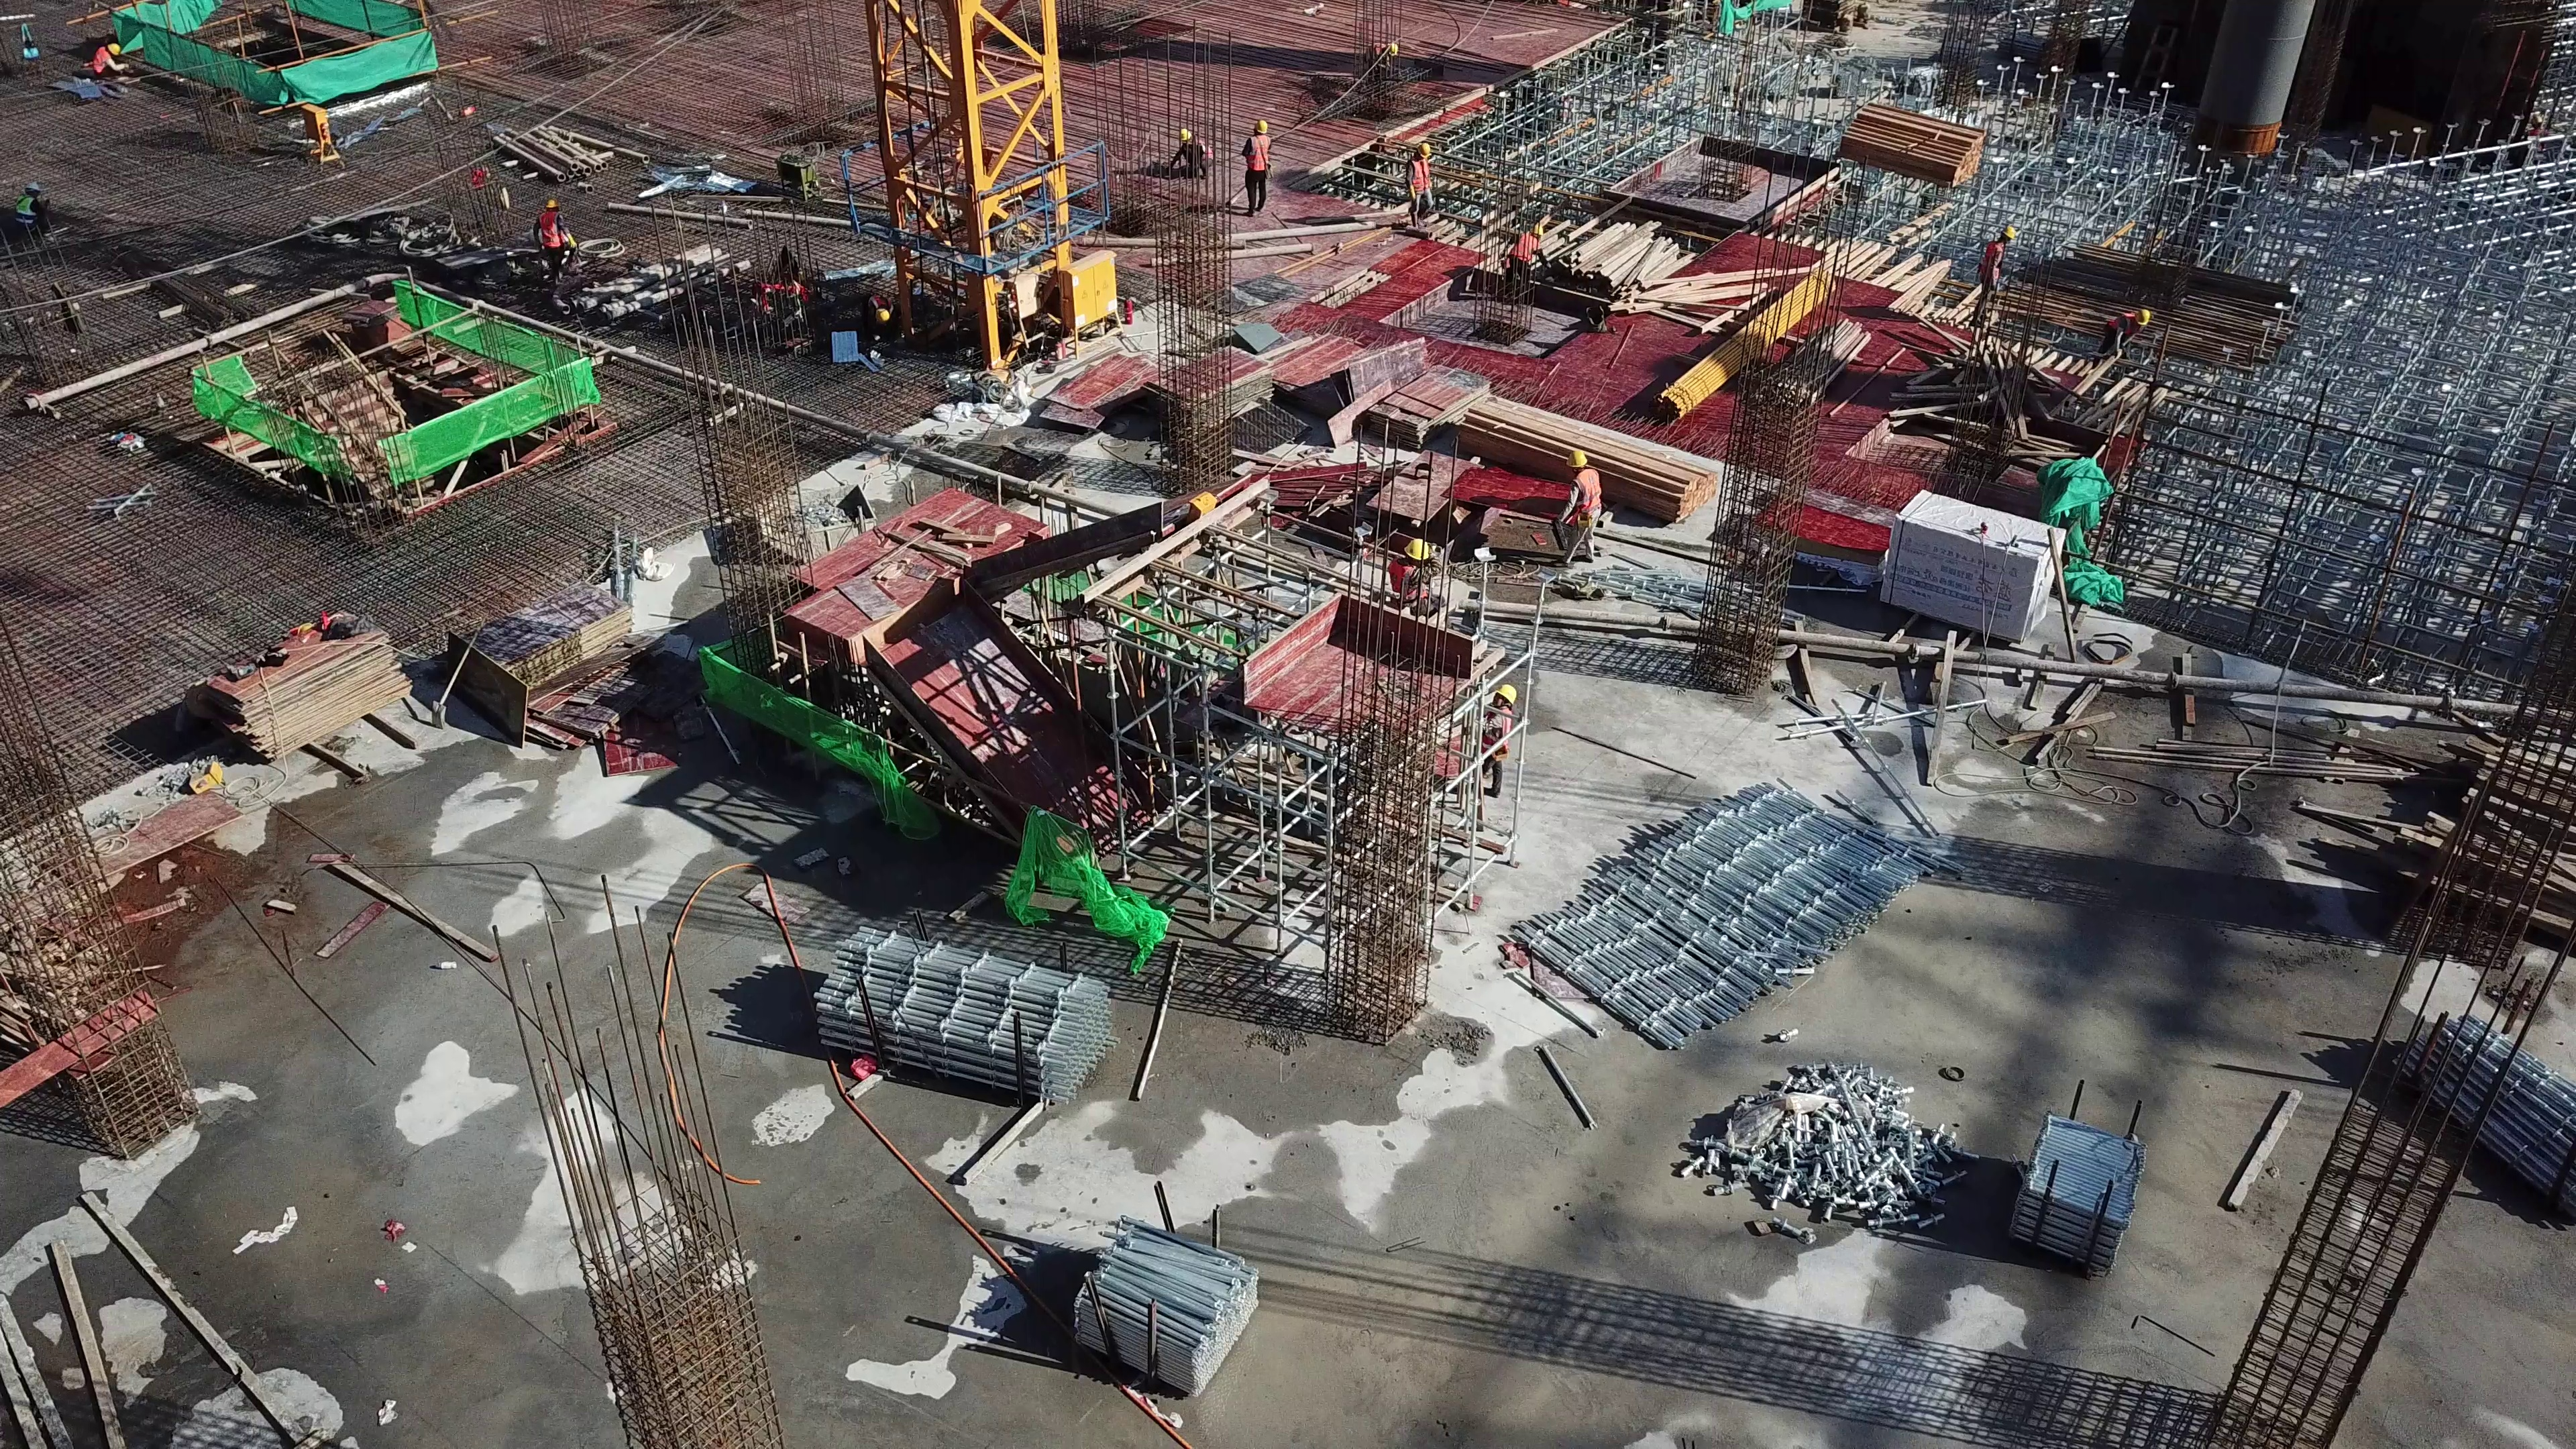board: (201, 608, 408, 765), (455, 578, 633, 739)
person: (1476, 680, 1519, 797), (522, 193, 569, 296), (1980, 217, 2018, 342), (1236, 115, 1283, 214), (1560, 450, 1601, 546), (1383, 520, 1435, 593), (1400, 135, 1435, 237), (2102, 310, 2158, 368)
scaffold: (1517, 780, 1925, 1042), (810, 922, 1120, 1110), (2389, 998, 2576, 1234), (1079, 1214, 1260, 1407), (2018, 1097, 2152, 1275)
wood: (1444, 394, 1723, 529), (1528, 225, 1770, 339)
